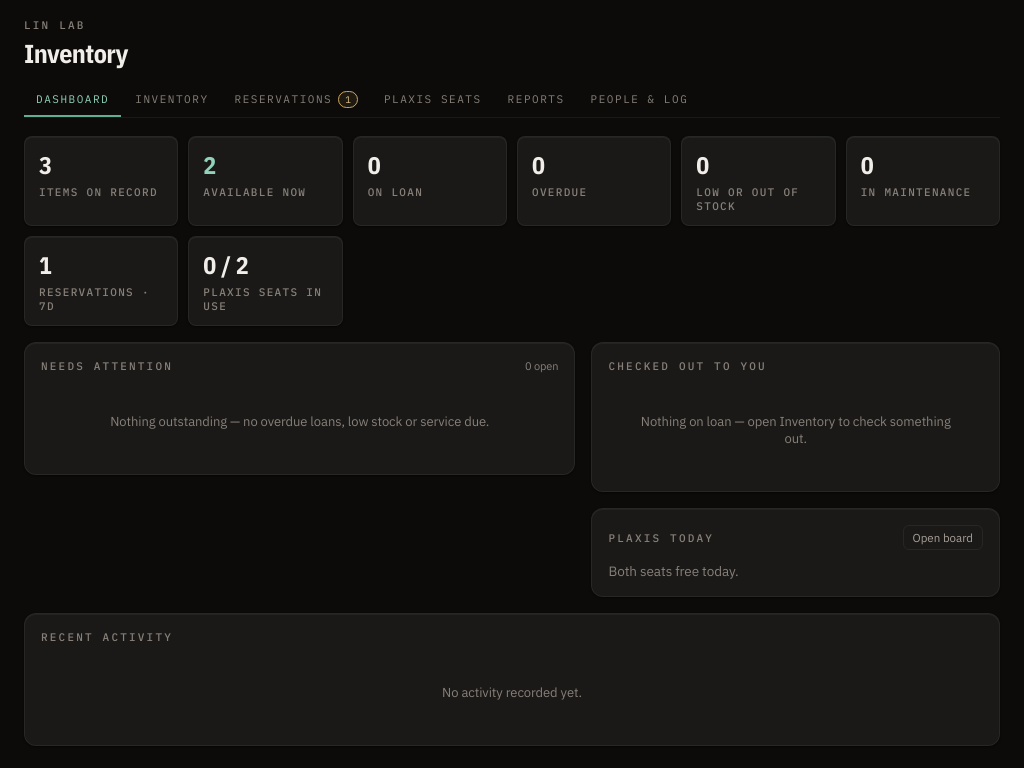
reservations list scoping › empty for THIS item reads differently from empty overall
Click the tab "Reservations1": (296, 100) [222,84,370,117]
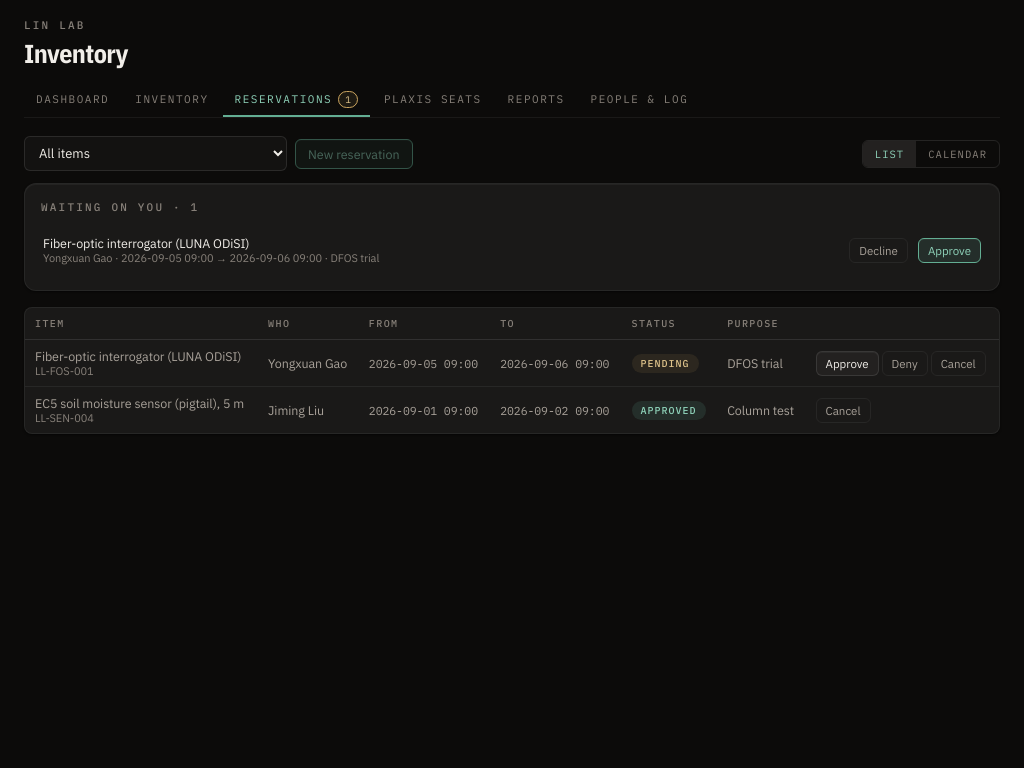
Select "TEROS 22 tensiometer" in the dropdown named "Item": (156, 154) [24,136,287,171]
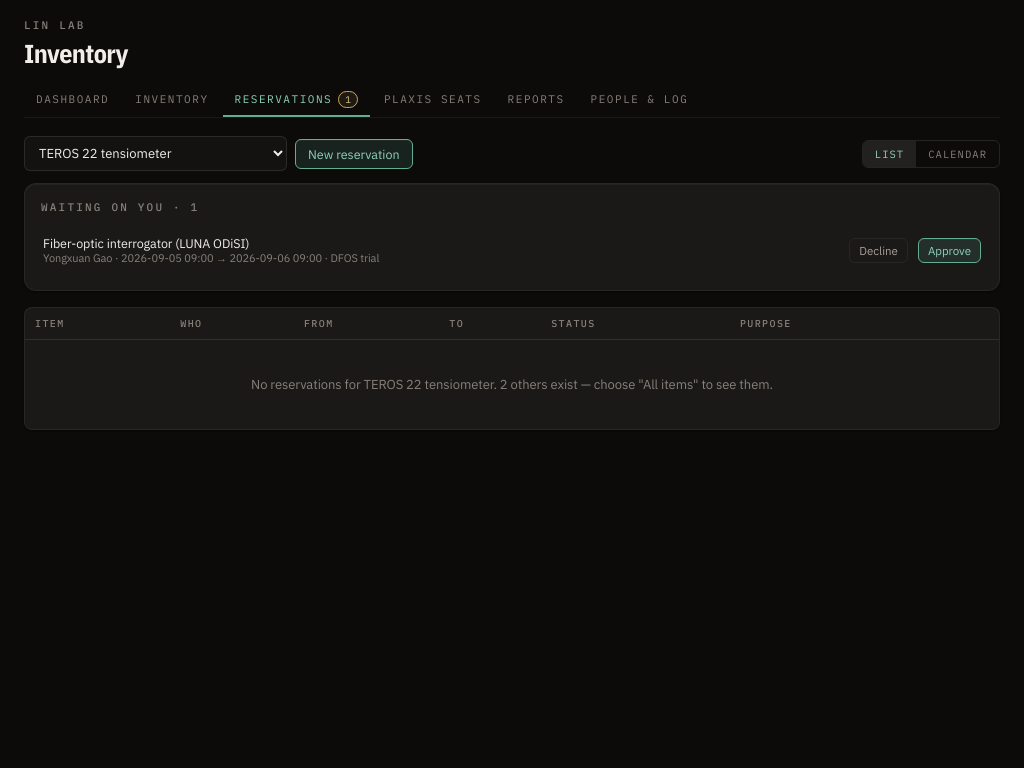
Now the text "No reservations for TEROS 22 tensiometer" shows "2 others exist", box [251,376,773,393]
Now the text "No reservations for TEROS 22 tensiometer" shows "All items", box [251,376,773,393]
